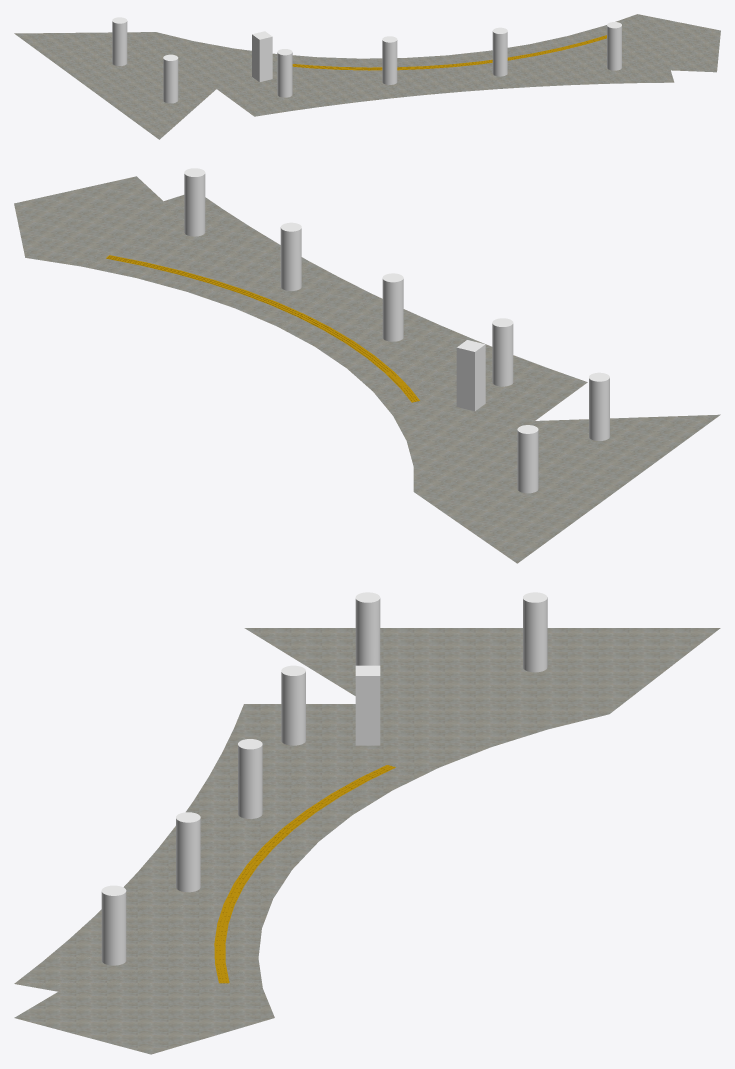
The picture shows the model from 3 angles, top to bottom: view 1: azimuth 30°, elevation 25°; view 2: azimuth 150°, elevation 25°; view 3: azimuth 270°, elevation 25°; orthographic projection. The views are drawn at different scales.
Parts seen in each view (by area): view 1: Model; view 2: Model; view 3: Model.
Part boxes in pixels (box(x1,y1,x2,y2)): Model: box(14, 14, 720, 139); Model: box(14, 168, 720, 563); Model: box(14, 592, 720, 1054).
Bounding box in the file's own units: 525810 × 40000 × 368191.
Materials: 3 (1 with a texture image).
